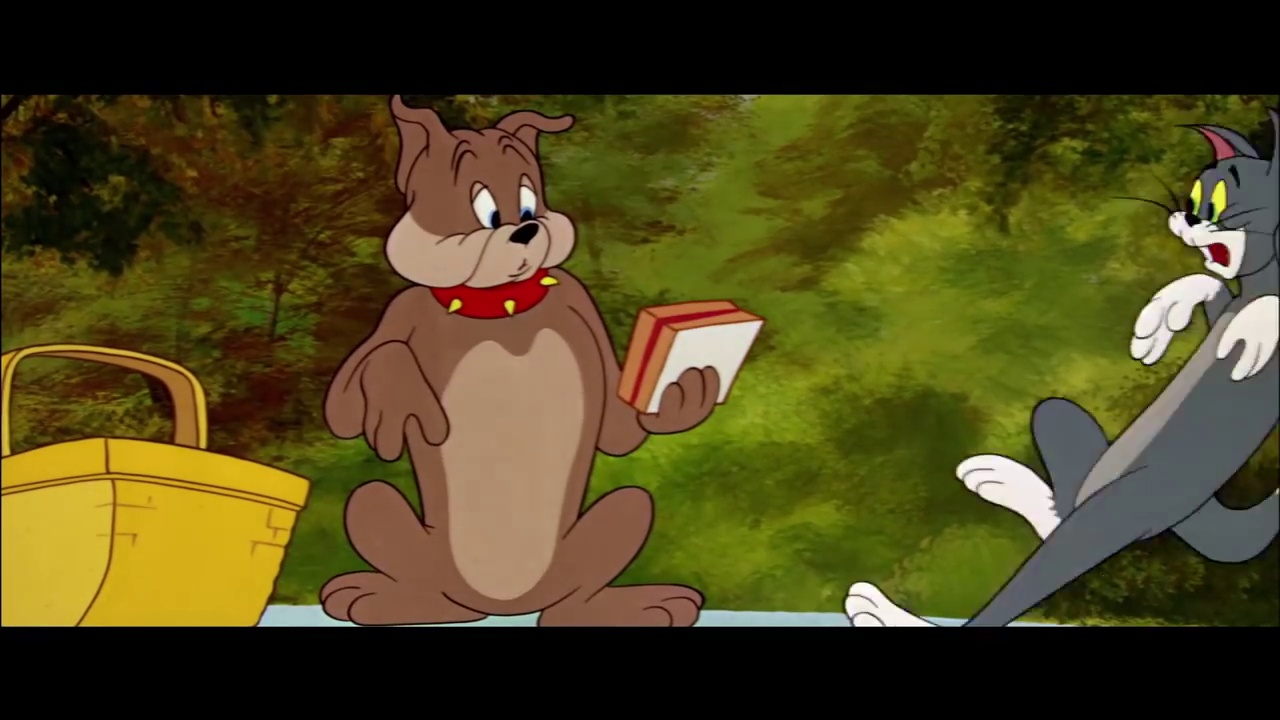spike: (379, 91, 585, 323)
tom: (1156, 116, 1277, 282)
